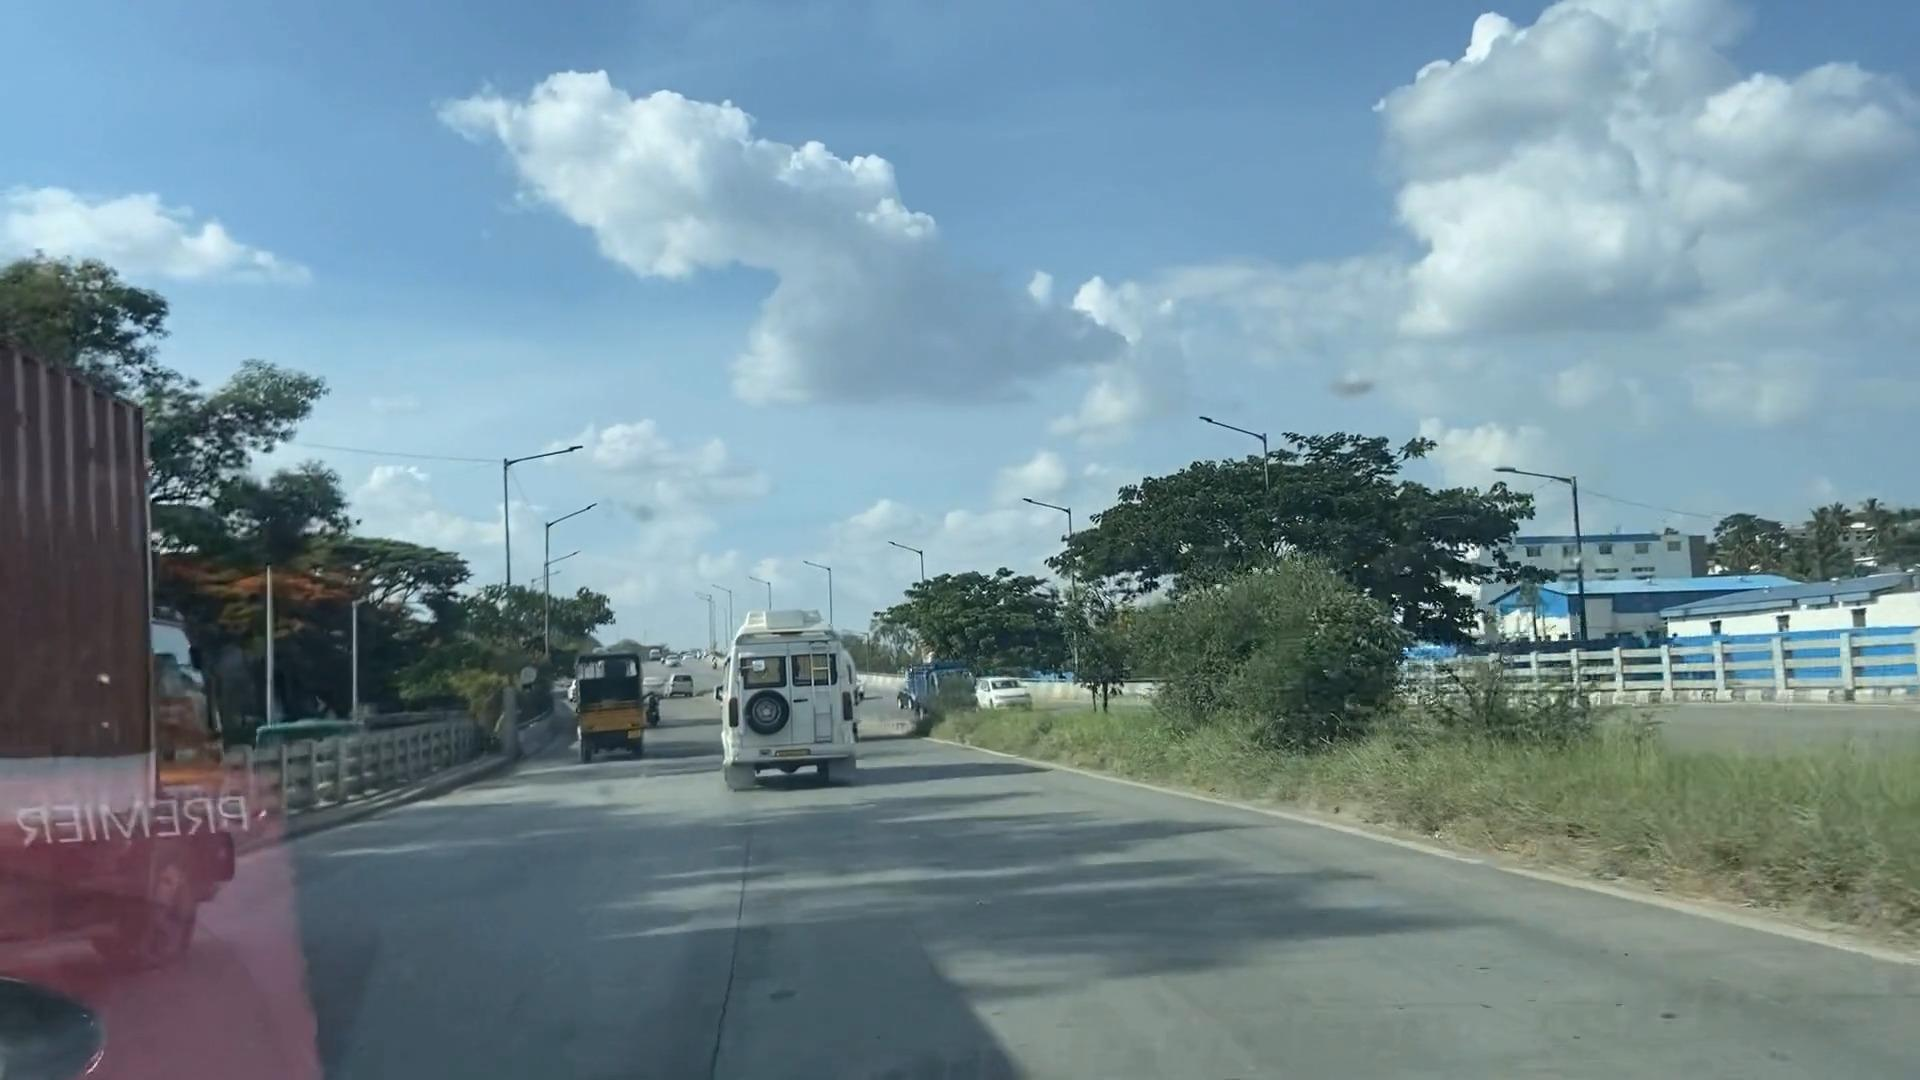HMV: (718, 614, 862, 776), (571, 652, 652, 762)
